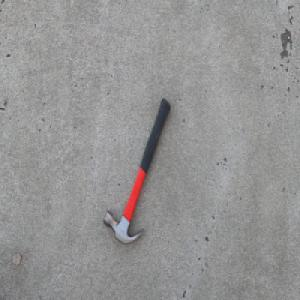Hammer: (103, 97, 171, 245)
